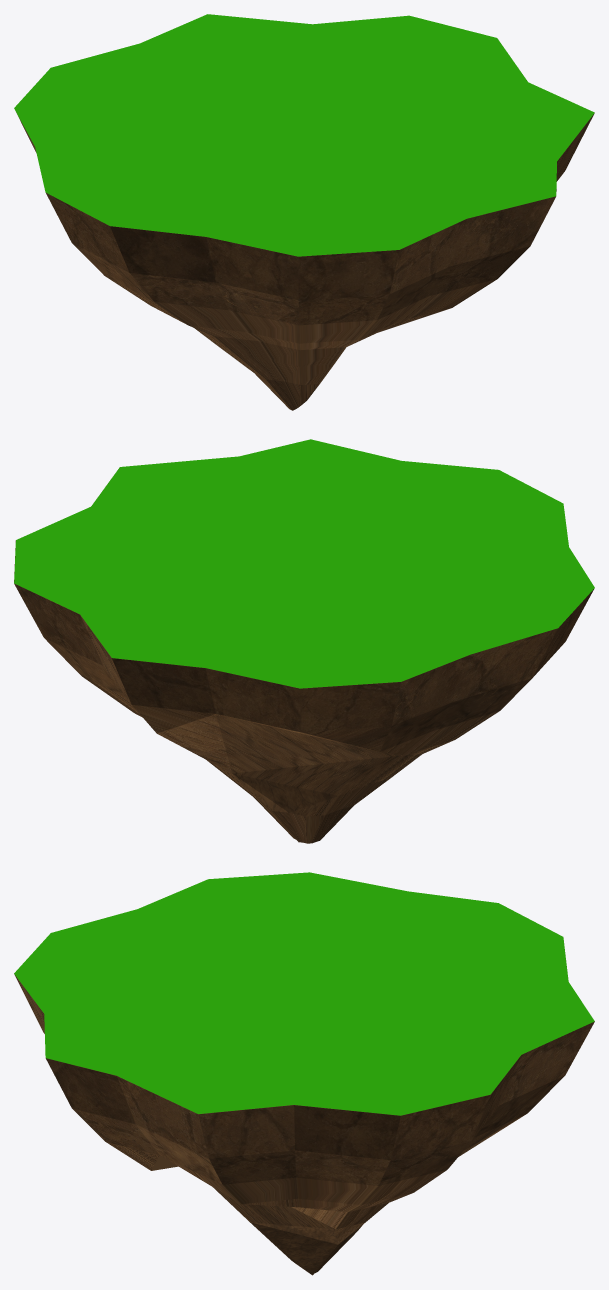
The model's file is piattaforma_scoscesa_erba1.fbx.
3 renders of one model, top to bottom at view 1: azimuth 30°, elevation 25°; view 2: azimuth 150°, elevation 25°; view 3: azimuth 270°, elevation 25°, orthographic.
Parts seen in each view (by area): view 1: erba.002, ground villaggio.002; view 2: erba.002, ground villaggio.002; view 3: erba.002, ground villaggio.002.
Boxes of the visible parts, x1,y1,x2,y2 form: erba.002: [14, 14, 594, 256]; ground villaggio.002: [16, 112, 594, 410]; erba.002: [14, 439, 594, 688]; ground villaggio.002: [14, 540, 594, 843]; erba.002: [14, 872, 594, 1115]; ground villaggio.002: [14, 974, 594, 1275].
Bounding box in the file's own units: 366 × 192 × 369.
Materials: 2 (1 with a texture image).
